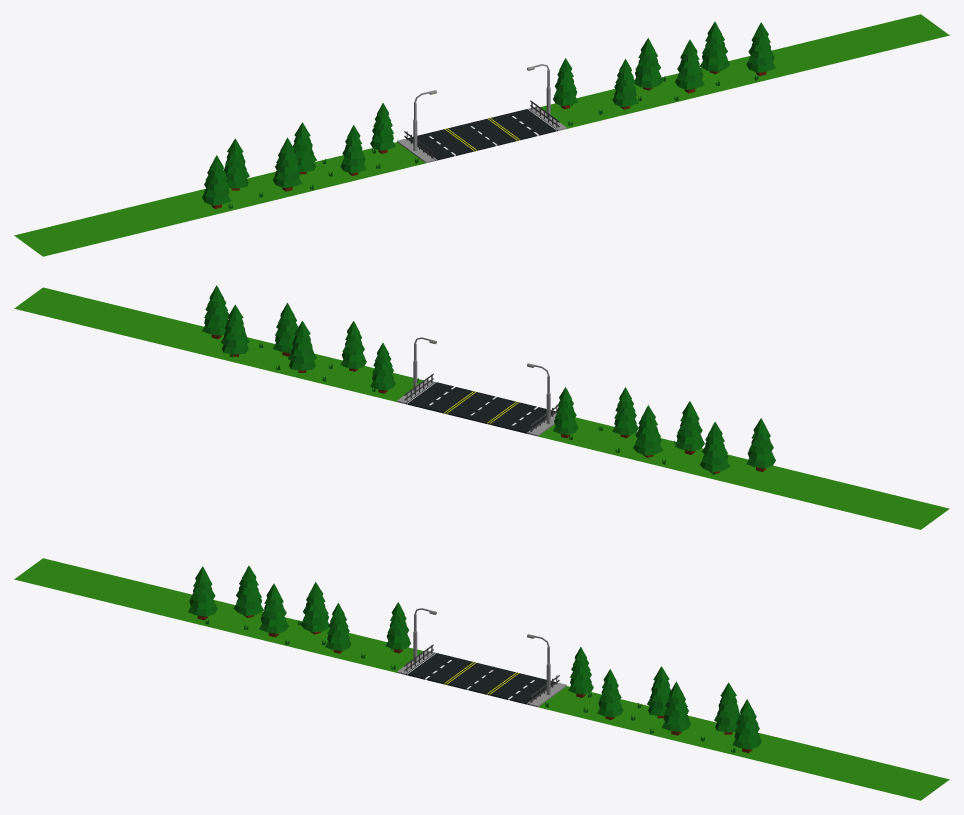
The model's file is Weg_Lantaarn.FBX.
The picture shows the model from 3 angles, top to bottom: view 1: azimuth 30°, elevation 25°; view 2: azimuth 150°, elevation 25°; view 3: azimuth 330°, elevation 25°; orthographic projection.
Parts seen in each view (by area): view 1: Grond1, Bomen1, Road_metlamp; view 2: Grond1, Bomen1, Road_metlamp; view 3: Grond1, Bomen1, Road_metlamp.
Boxes of the visible parts, x1,y1,x2,y2 form: Grond1: (14, 14, 949, 256); Bomen1: (202, 21, 775, 208); Road_metlamp: (397, 64, 566, 163); Grond1: (14, 287, 949, 529); Bomen1: (202, 285, 775, 473); Road_metlamp: (397, 337, 558, 436); Grond1: (14, 558, 949, 800); Bomen1: (188, 565, 761, 752); Road_metlamp: (397, 608, 566, 707).
Size of the model in its own units: 144000 by 8000 by 8664.
